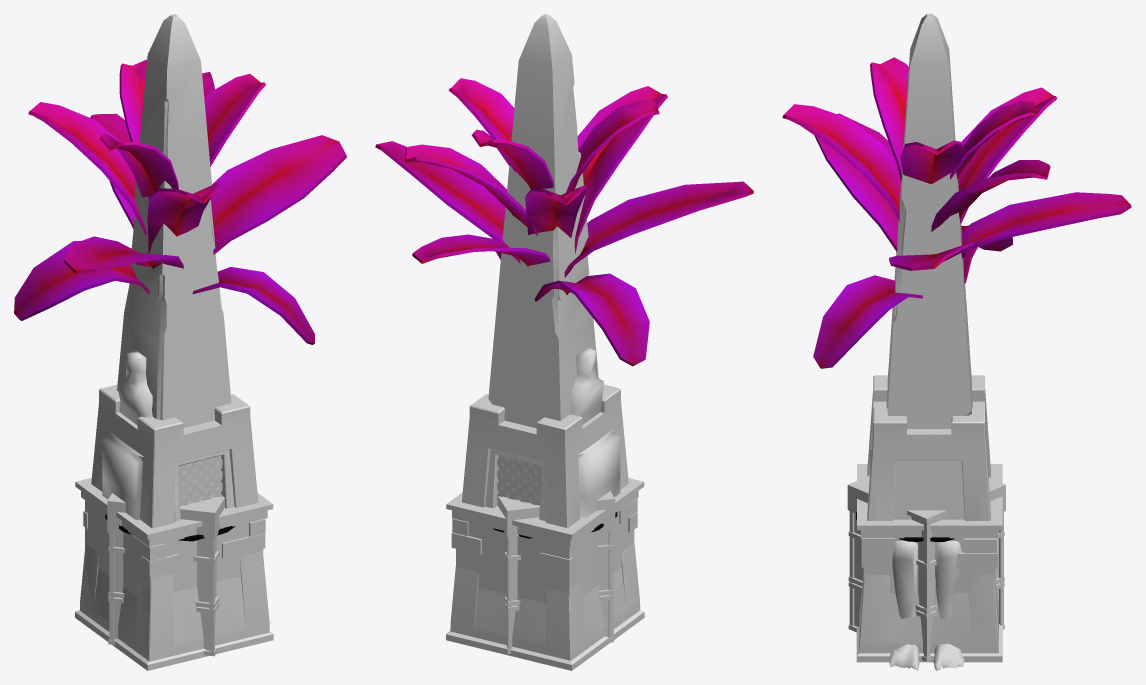
Rendered from obstacle.glb.
The picture shows the model from 3 angles, left to right: view 1: azimuth 30°, elevation 25°; view 2: azimuth 150°, elevation 25°; view 3: azimuth 270°, elevation 25°; orthographic projection.
Parts seen in each view (by area): view 1: obstacle_pillar, obstacle_palm, obstacle_tower, obstacle_box, obstacle_statue; view 2: obstacle_pillar, obstacle_palm, obstacle_tower, obstacle_statue, obstacle_box; view 3: obstacle_pillar, obstacle_palm, obstacle_tower, obstacle_box, obstacle_statue.
Boxes of the visible parts, x1,y1,x2,y2 form: obstacle_pillar: [75, 14, 273, 670]; obstacle_palm: [14, 59, 346, 541]; obstacle_tower: [80, 384, 269, 661]; obstacle_box: [107, 493, 224, 656]; obstacle_statue: [102, 351, 270, 623]; obstacle_pillar: [446, 14, 644, 670]; obstacle_palm: [375, 78, 753, 538]; obstacle_tower: [450, 384, 640, 660]; obstacle_statue: [569, 347, 620, 517]; obstacle_box: [497, 491, 615, 653]; obstacle_pillar: [856, 14, 1002, 662]; obstacle_palm: [782, 57, 1131, 541]; obstacle_tower: [859, 375, 998, 653]; obstacle_box: [847, 475, 1005, 661]; obstacle_statue: [869, 449, 964, 670].
Size of the model in its own units: 2.3 by 4.17 by 2.14.
